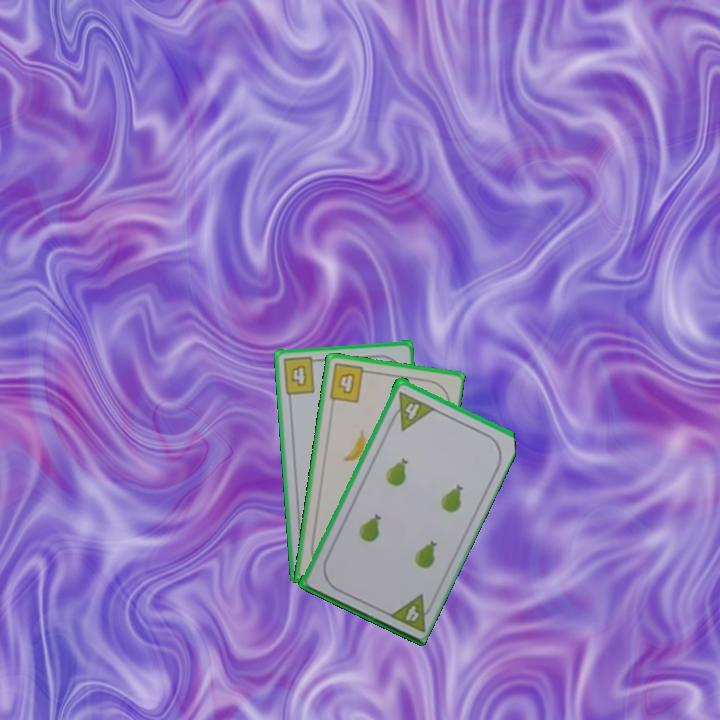4b: (325, 360, 373, 405), (279, 354, 323, 397)
4p: (400, 396, 435, 432), (401, 601, 422, 624)
